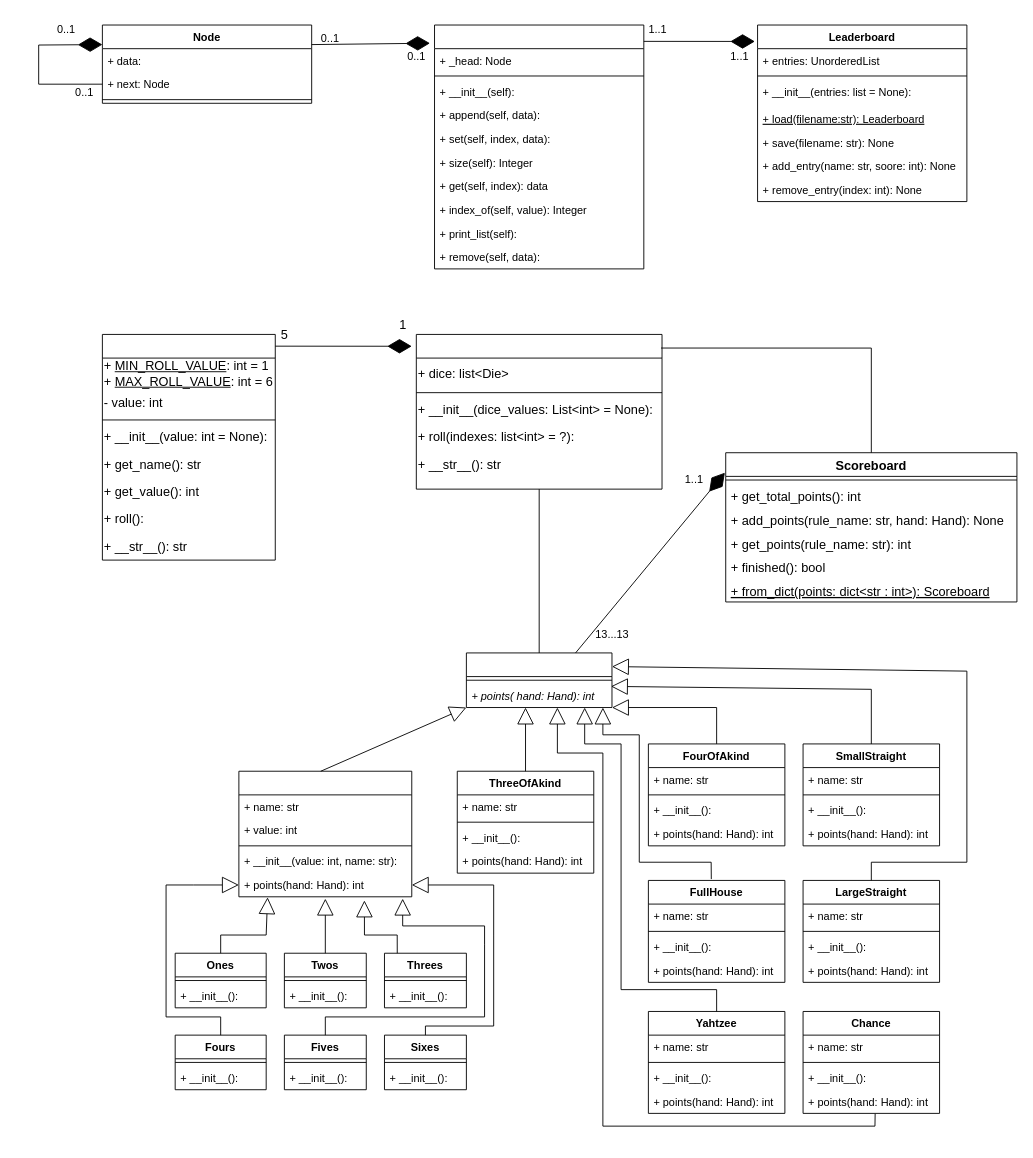
Image size: 1033x1158. Some labels were removed from this diagram. Here are the shapes that lost their labels. From the top down, the box of each, then its label:
(434, 24, 644, 269): UnorderedList
(415, 334, 662, 489): Hand
(101, 334, 275, 560): Die
(465, 652, 612, 708): Rule
(238, 770, 412, 897): SameValueRule
